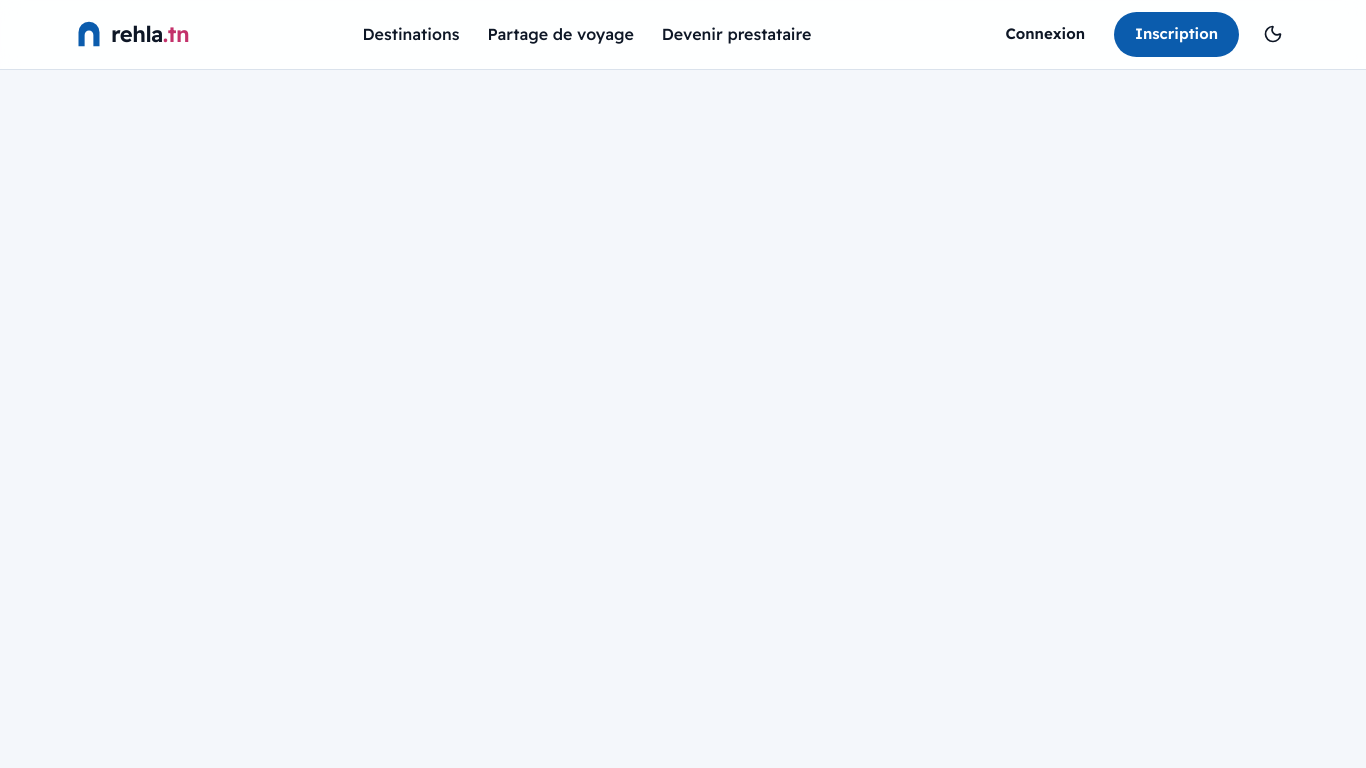
Scenario: NavBar — thème clair / sombre › bascule le thème au clic et mémorise le choix
Click the button named "Activer le thème sombre": (1273, 34) [1255, 16, 1291, 52]
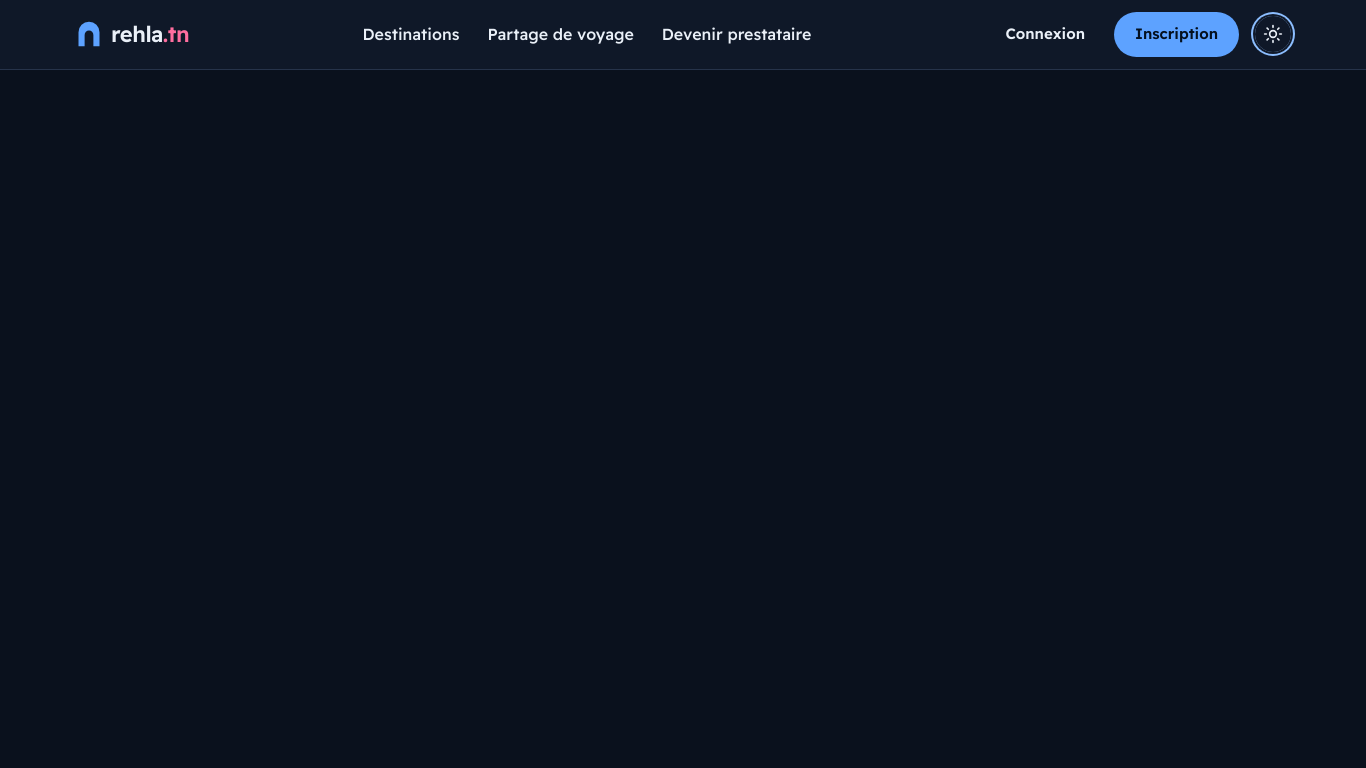
expect the button named "Activer le thème clair" is shown: met, box [1255, 16, 1291, 52]
